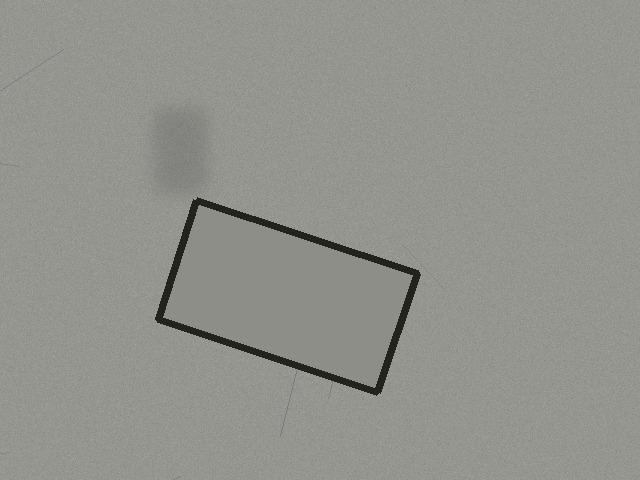parking_area: (158, 200, 417, 392)
